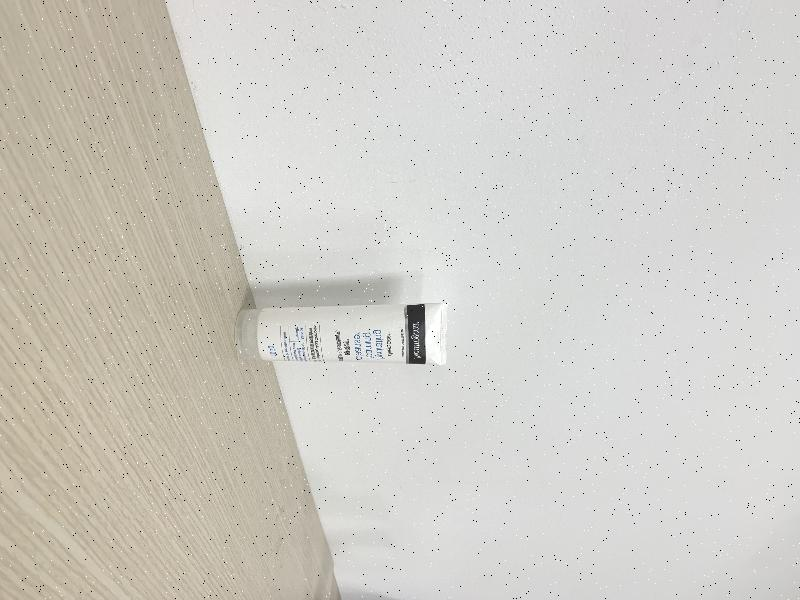HydratingFoamingCleanser: (235, 301, 448, 366)
